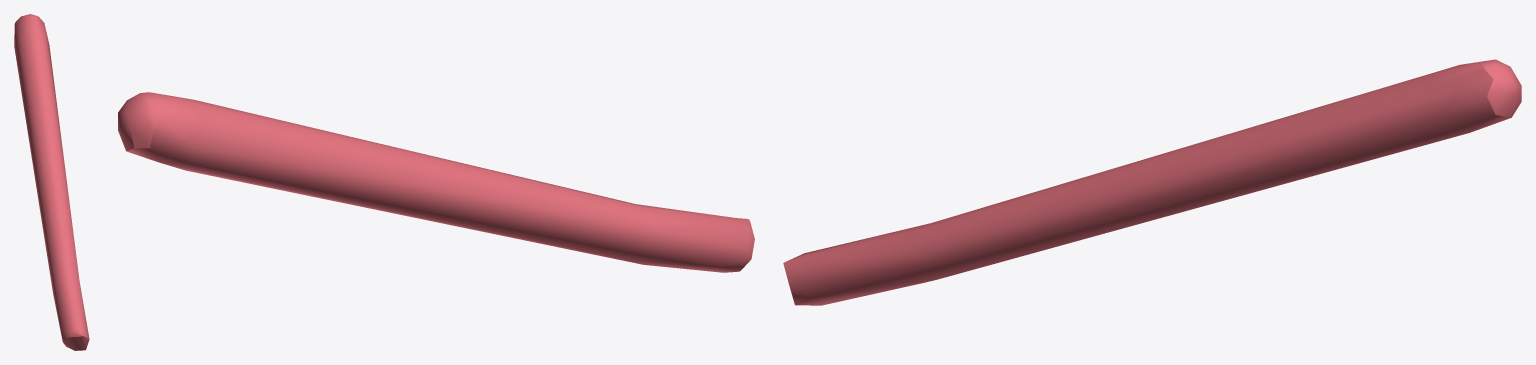
The model's file is fma68983_fj3033.glb.
3 views of the same model, side by side, from view 1: azimuth 30°, elevation 25°; view 2: azimuth 150°, elevation 25°; view 3: azimuth 270°, elevation 25° (orthographic). The views are drawn at different scales.
Parts seen in each view (by area): view 1: FMA68983_FJ3033; view 2: FMA68983_FJ3033; view 3: FMA68983_FJ3033.
Boxes of the visible parts, x1=… form: FMA68983_FJ3033: x1=14, y1=14, x2=89, y2=350; FMA68983_FJ3033: x1=118, y1=92, x2=754, y2=272; FMA68983_FJ3033: x1=783, y1=59, x2=1521, y2=305.
Size of the model in its own units: 0.0139 by 0.0162 by 0.0299.
